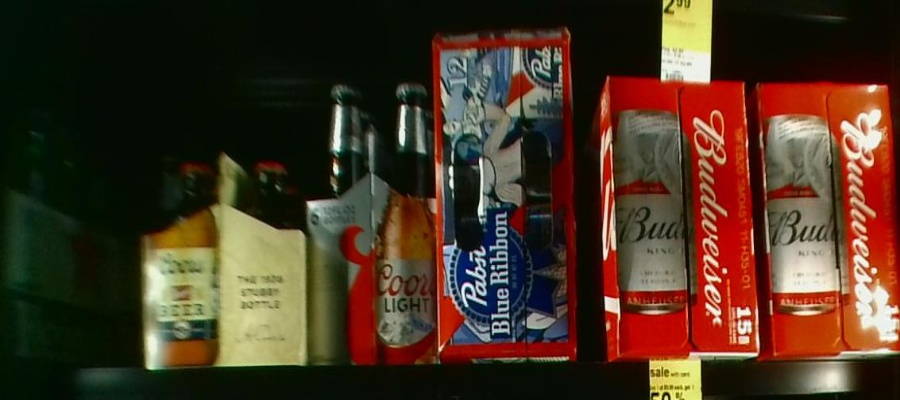bottle: (590, 73, 758, 360), (433, 30, 577, 356), (757, 74, 900, 360), (133, 145, 307, 368), (310, 83, 433, 364)
